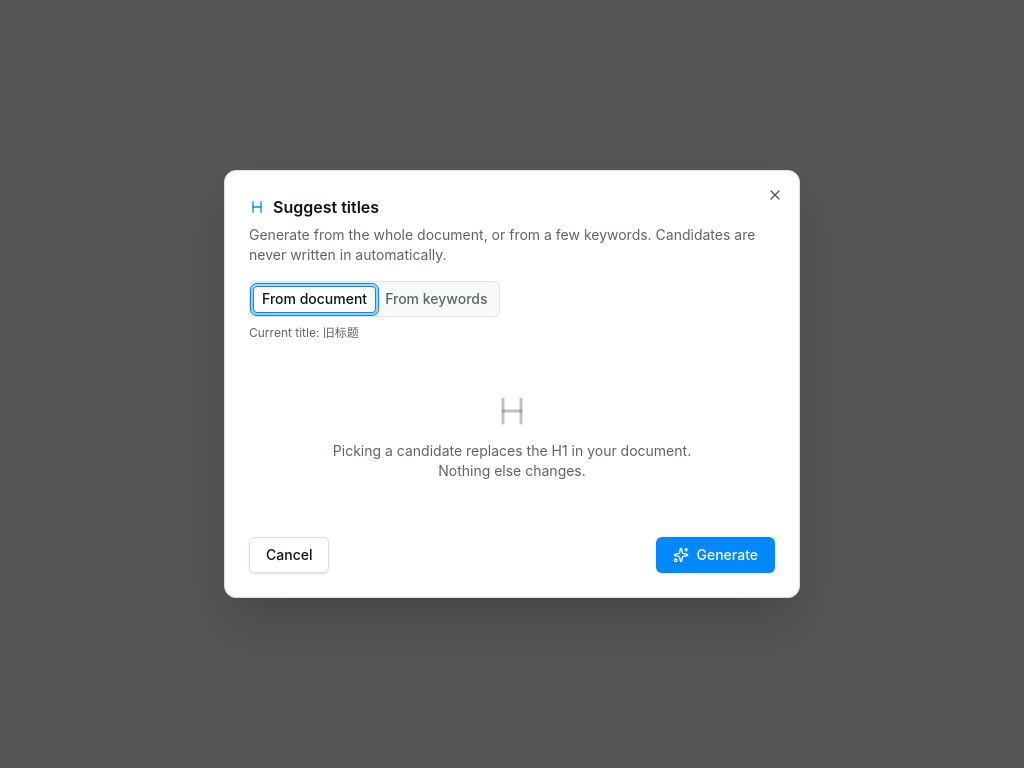
起标题 › 生成后逐条列出候选
The image size is (1024, 768).
What coordinates should you click on to do the following:
click the button "Generate"
I would click on:
 (715, 555)
Its box is [656, 537, 775, 573].
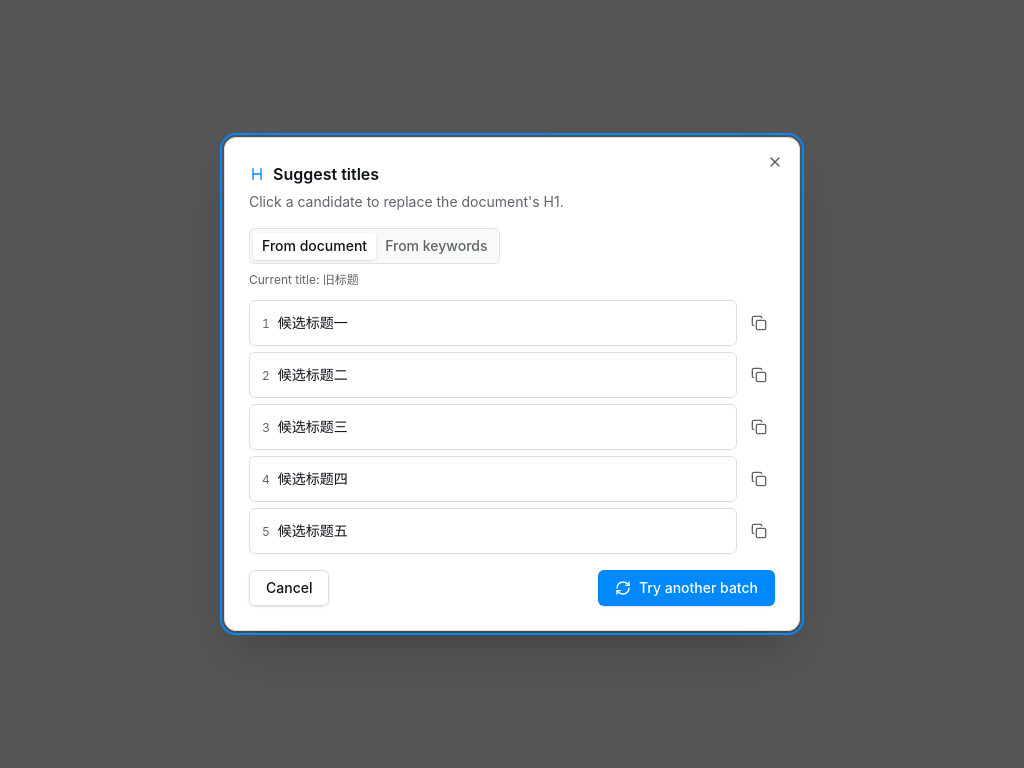
Now the button "1候选标题一" is shown, box [249, 300, 737, 346]
Now the button "2候选标题二" is shown, box [249, 352, 737, 398]
Now the button "3候选标题三" is shown, box [249, 404, 737, 450]
